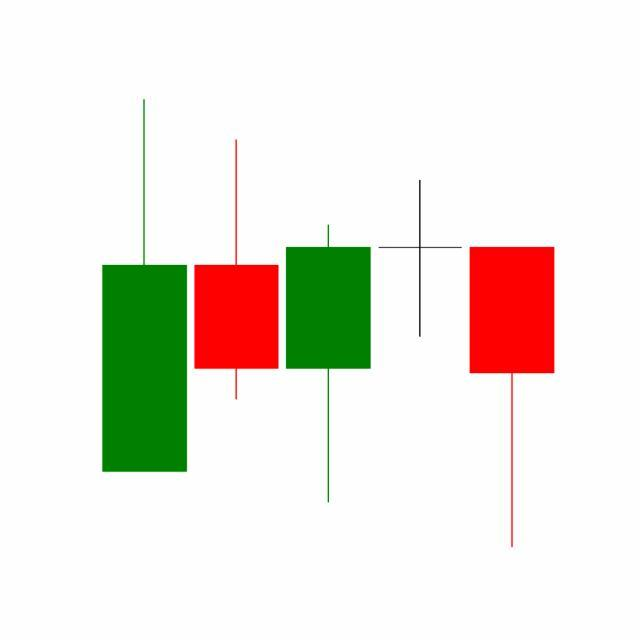Spinning Top: (374, 178, 468, 339)
